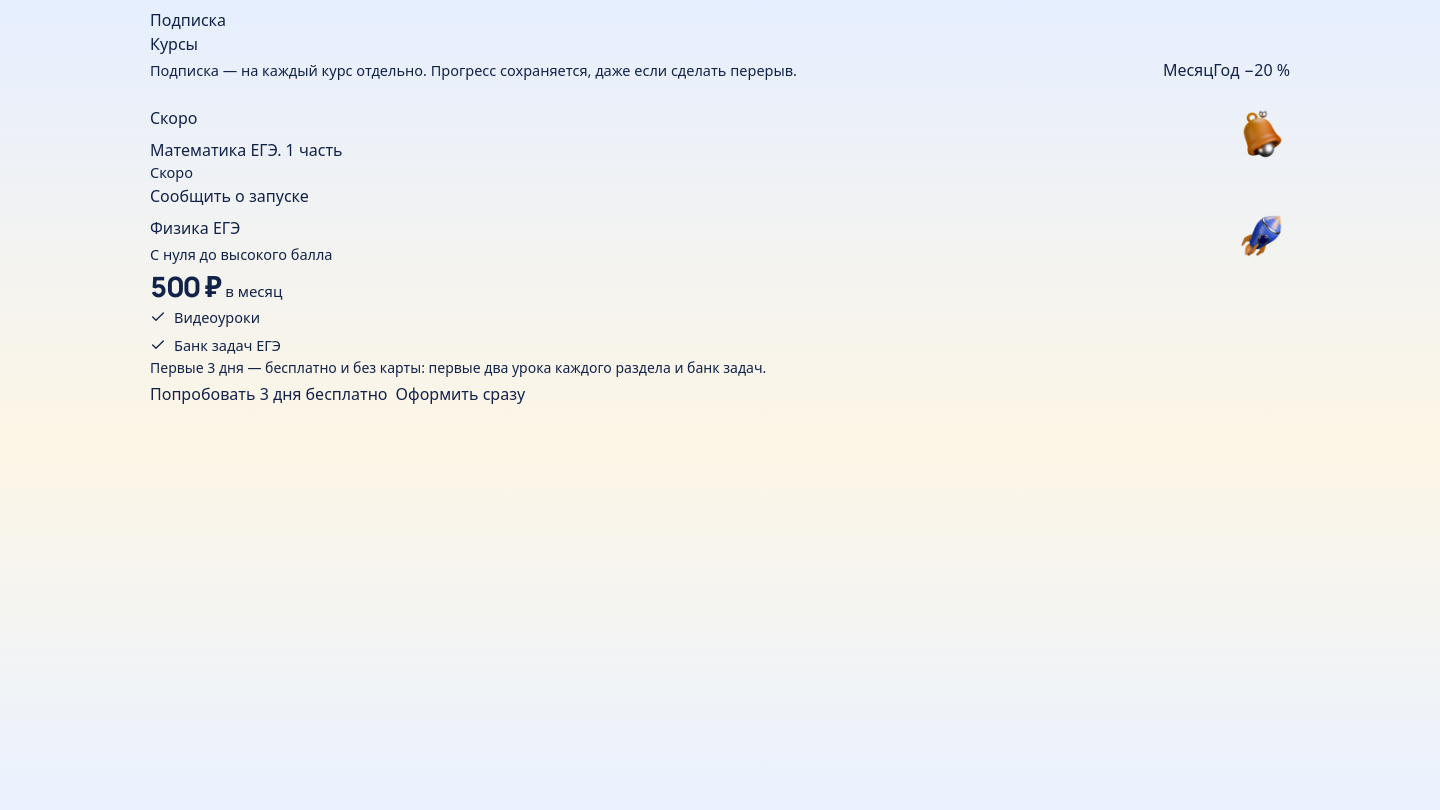
Test: «Курсы» › «Скоро» — без оплаты, «Сообщить о запуске»
Expected: the element with test id "course-card" does not show "₽", [150,106,1290,208]
Click the button with test id "course-card-notify": click(229, 196) [150,184,309,208]
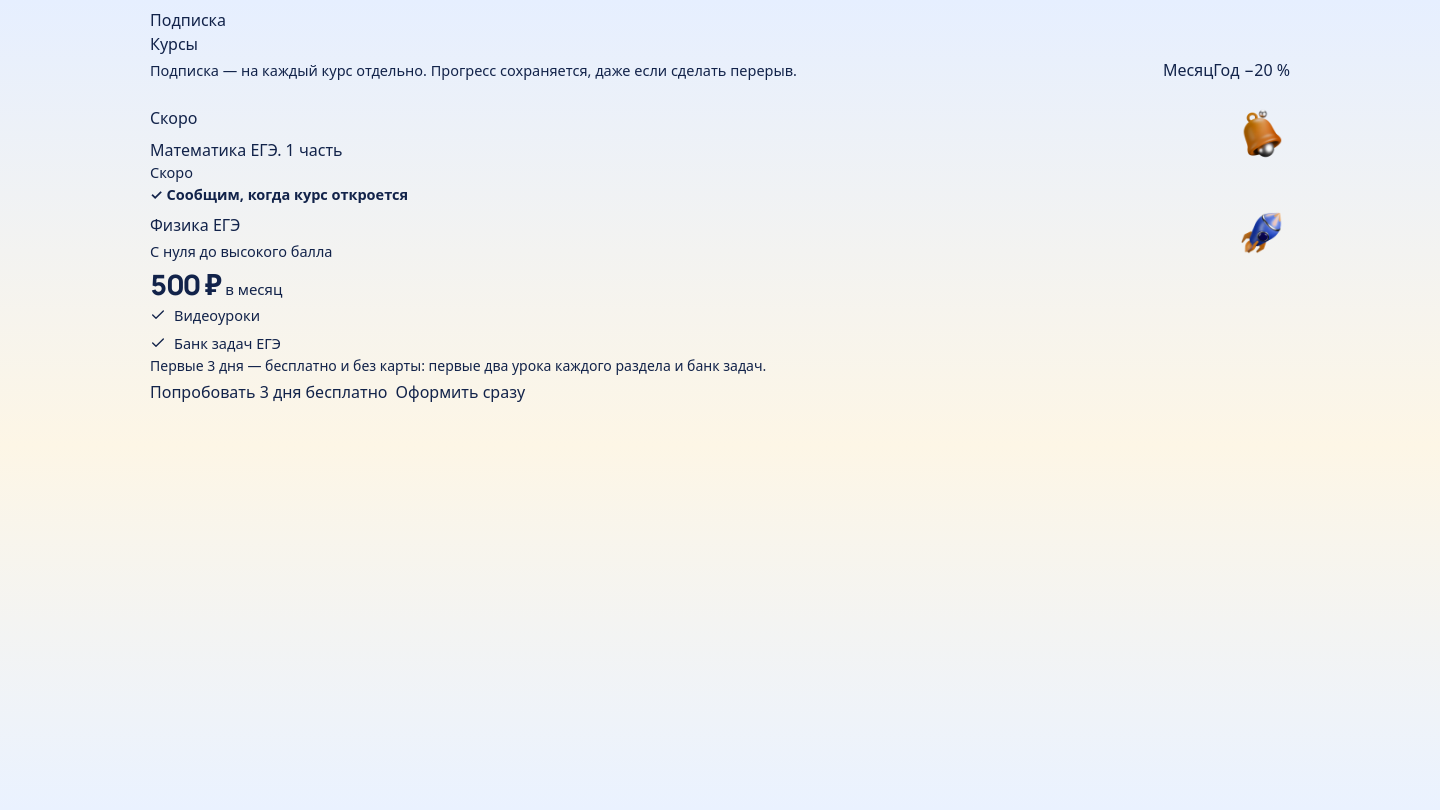
Result: the text "✓ Сообщим, когда курс откроется" is shown at [150,184,408,204]
